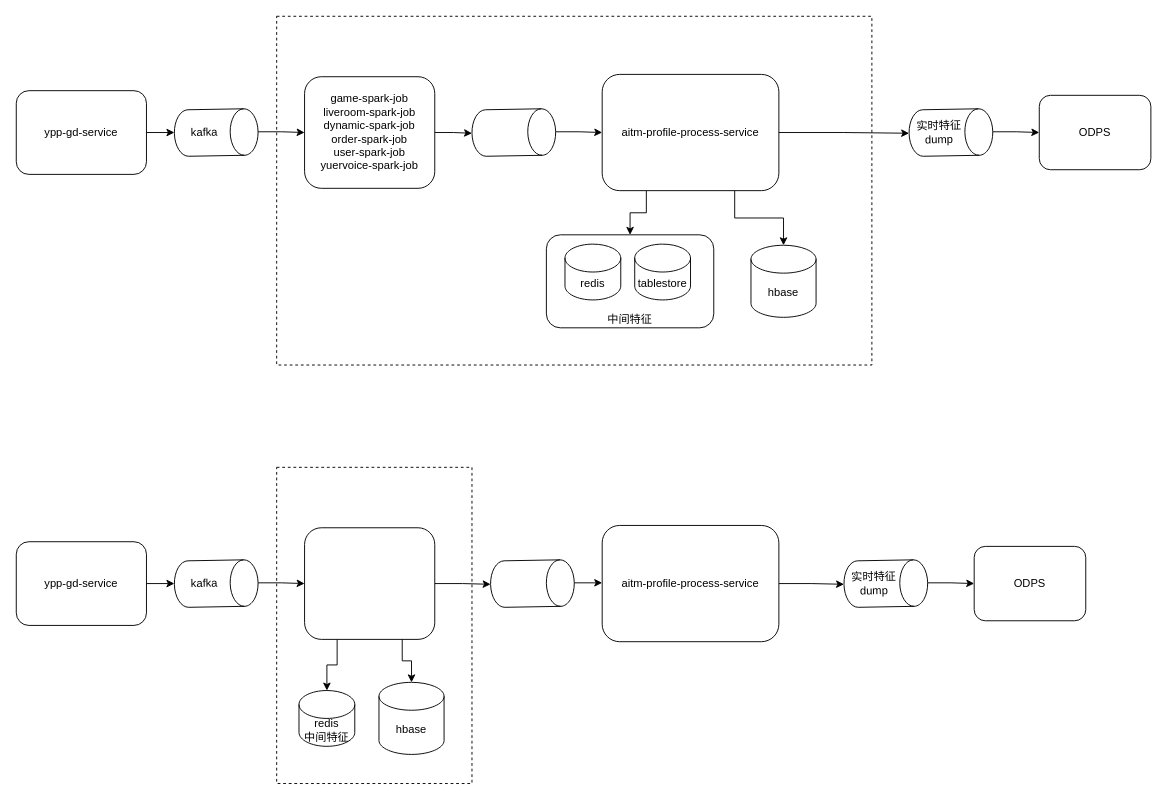
Image size: 1167x800. Some labels were removed from this diagram. Each missing label, with the centre of its shape:
aitm-profile-flink-job: (x=369, y=583)
kafka 中间特征: (x=513, y=132)
kafka 最终特征: (x=532, y=583)
